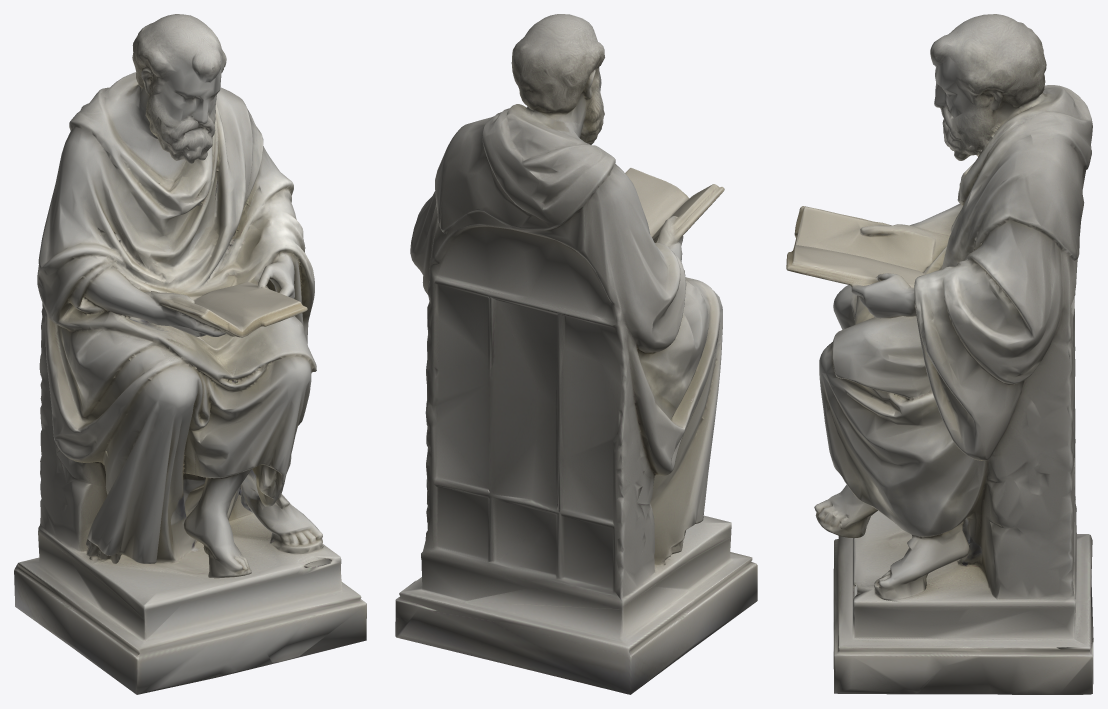
Rendered from statue_seated.glb.
3 renders of one model, left to right at view 1: azimuth 30°, elevation 25°; view 2: azimuth 150°, elevation 25°; view 3: azimuth 270°, elevation 25°, orthographic. The views are drawn at different scales.
Bounding box in the file's own units: 0.8395 × 1.91 × 0.8564.
1 material, 1 textured.
